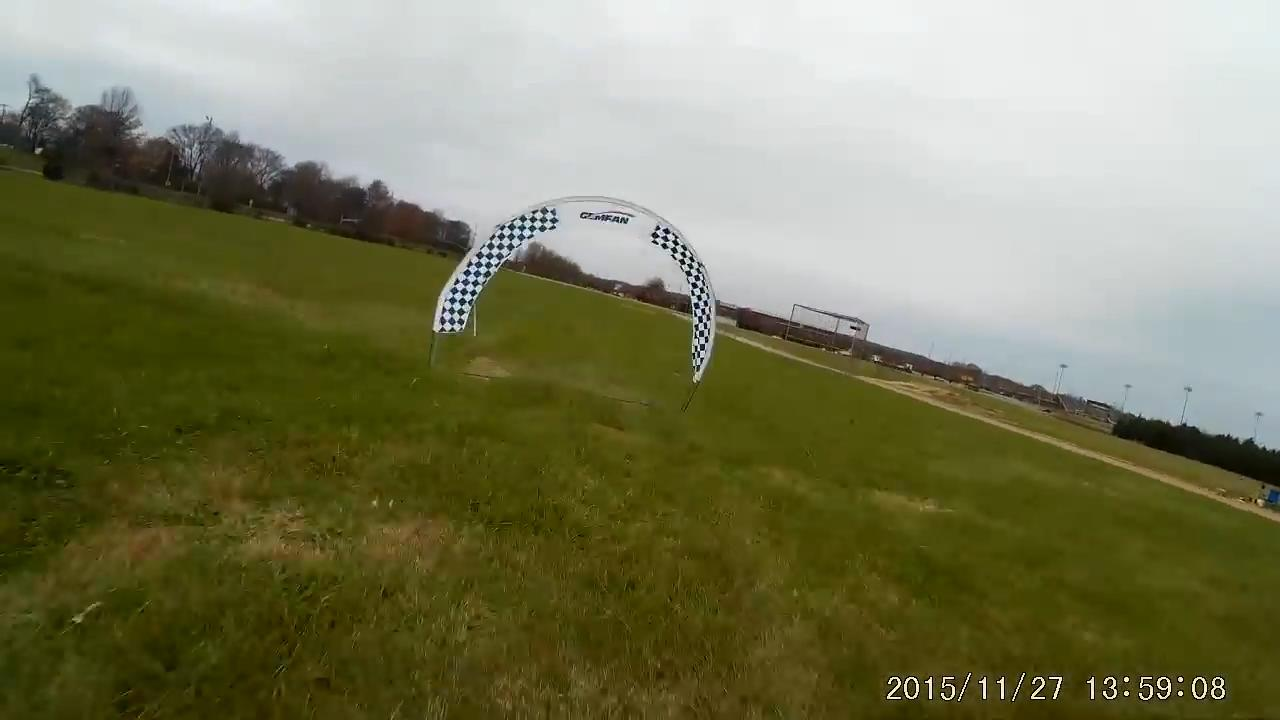gate: (425, 192, 719, 390)
